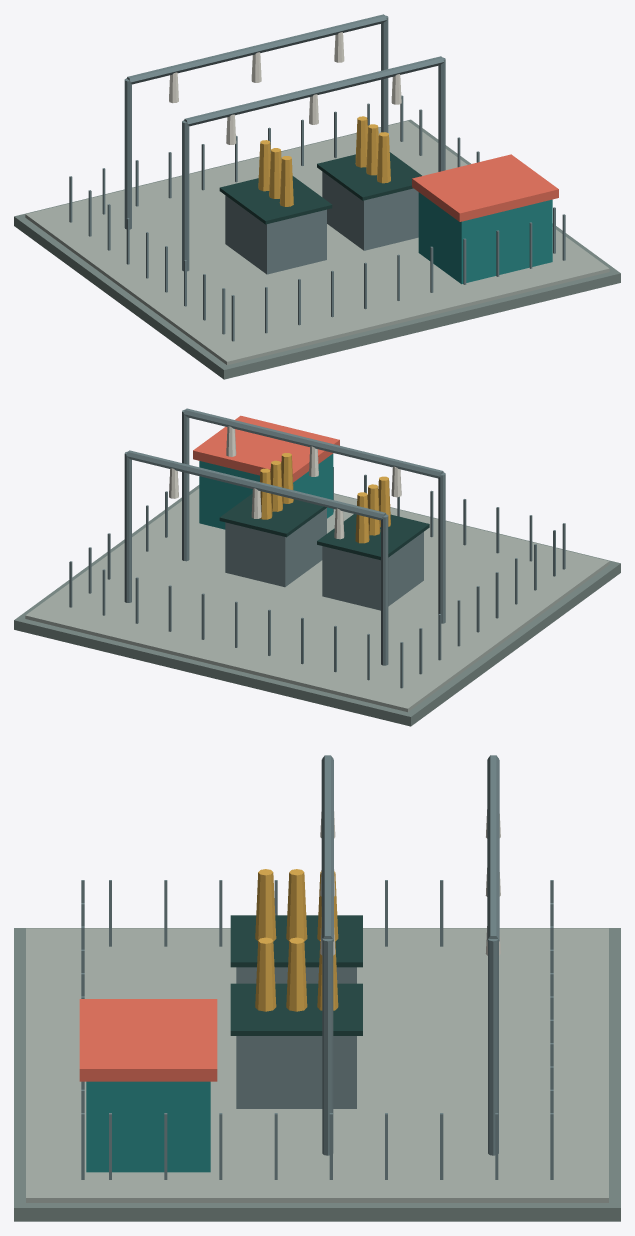
Rendered from substation_lv1.glb.
3 renders of one model, top to bottom at view 1: azimuth 30°, elevation 25°; view 2: azimuth 150°, elevation 25°; view 3: azimuth 270°, elevation 25°, orthographic. The views are drawn at different scales.
Parts seen in each view (by area): view 1: concrete, steel, pavement, teal, coral, dark, gold, ivory; view 2: concrete, steel, pavement, dark, coral, teal, gold, ivory; view 3: concrete, steel, pavement, coral, teal, dark, gold.
Boxes of the visible parts, left/top/right/bottom form: concrete: left=25, top=121, right=609, bottom=365; steel: left=69, top=14, right=565, bottom=341; pavement: left=14, top=119, right=620, bottom=379; teal: left=418, top=192, right=552, bottom=284; coral: left=412, top=154, right=558, bottom=221; dark: left=219, top=152, right=421, bottom=224; gold: left=258, top=116, right=390, bottom=206; ivory: left=169, top=32, right=401, bottom=144; concrete: left=25, top=488, right=609, bottom=712; steel: left=69, top=408, right=565, bottom=688; pavement: left=14, top=485, right=620, bottom=726; dark: left=219, top=493, right=429, bottom=560; coral: left=193, top=415, right=339, bottom=482; teal: left=199, top=453, right=333, bottom=529; gold: left=259, top=453, right=390, bottom=543; ivory: left=169, top=426, right=401, bottom=539; concrete: left=26, top=928, right=608, bottom=1202; steel: left=81, top=755, right=553, bottom=1179; pavement: left=14, top=928, right=620, bottom=1221; coral: left=79, top=999, right=217, bottom=1081; teal: left=86, top=1081, right=210, bottom=1172; dark: left=230, top=915, right=362, bottom=1035; gold: left=255, top=869, right=338, bottom=1011.
Bounding box in the file's own units: 9.6 × 3.78 × 8.8.
